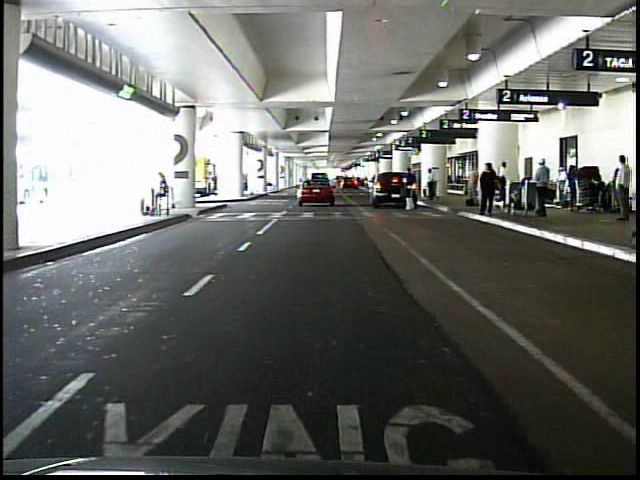person: (612, 155, 631, 223), (532, 157, 551, 218), (478, 160, 497, 214), (151, 172, 172, 220), (567, 164, 581, 211), (553, 168, 569, 206), (404, 166, 417, 212), (497, 160, 508, 202), (427, 168, 438, 203)
